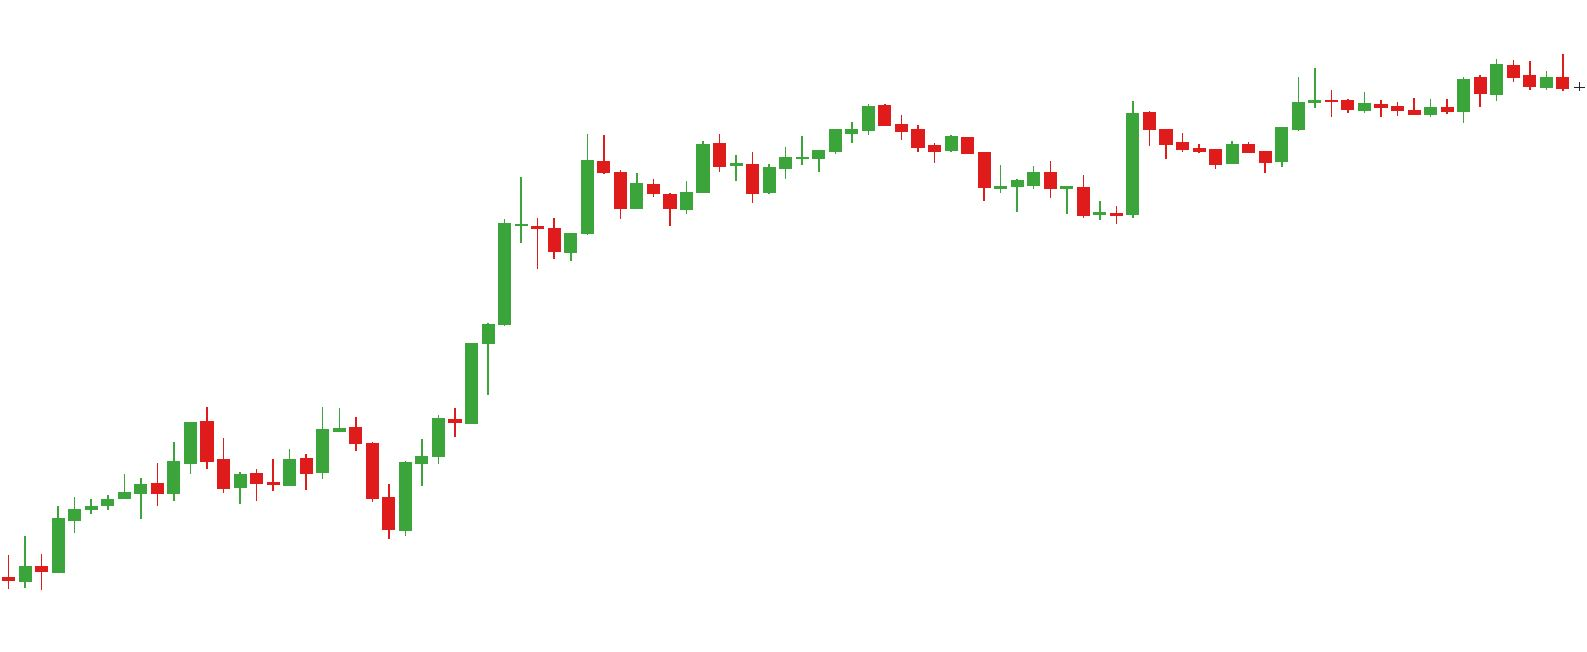buy: (233, 445, 414, 542)
